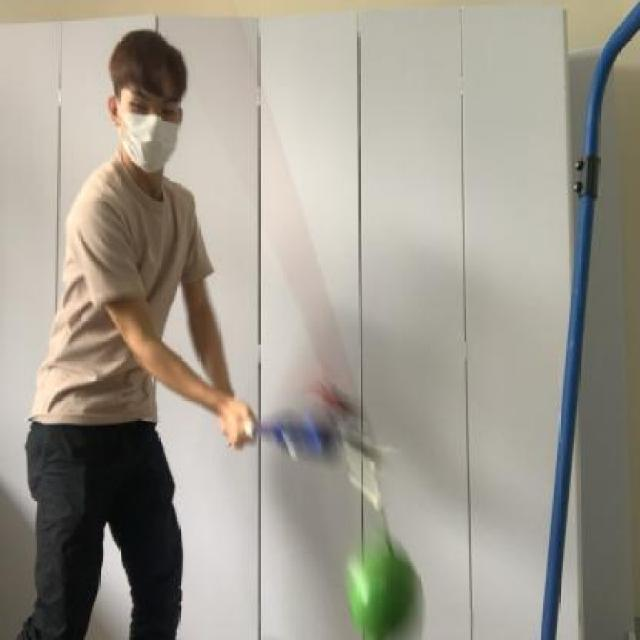baseball: (346, 541, 421, 640)
